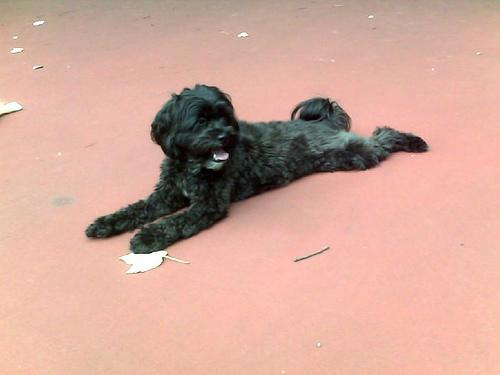dog-havanese: (149, 83, 239, 168)
